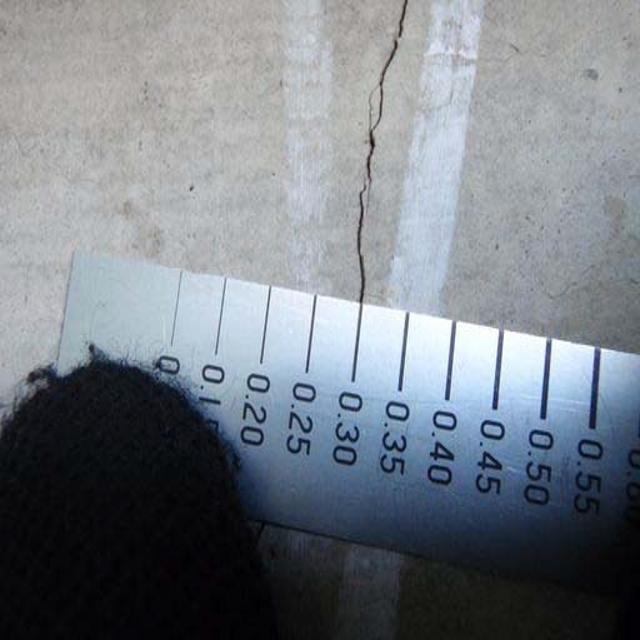crack: (345, 0, 408, 324)
